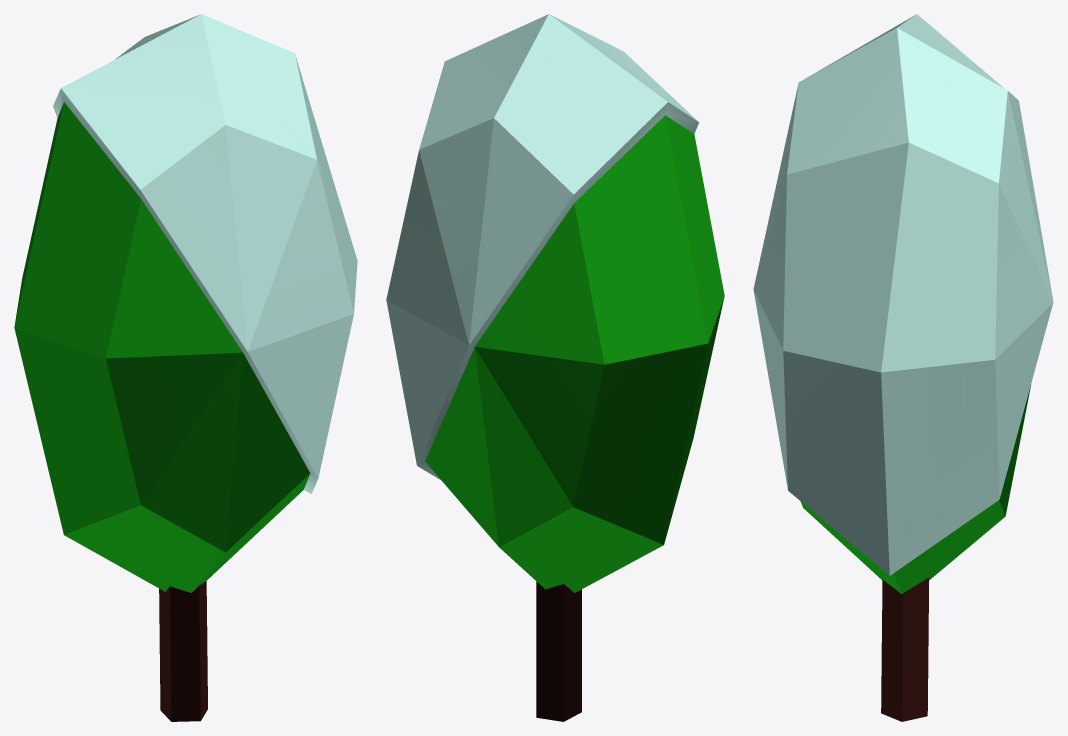
The model's file is Tree3.FBX.
3 views of the same model, side by side, from view 1: azimuth 30°, elevation 25°; view 2: azimuth 150°, elevation 25°; view 3: azimuth 270°, elevation 25° (orthographic).
Visible parts, largest first — view 1: Tree3_b, Tree3_C, Tree3_a; view 2: Tree3_b, Tree3_C, Tree3_a; view 3: Tree3_C, Tree3_a, Tree3_b.
Boxes of the visible parts, left/top/right/bottom form: Tree3_b: left=14, top=102, right=310, bottom=592; Tree3_C: left=53, top=14, right=357, bottom=493; Tree3_a: left=159, top=581, right=207, bottom=721; Tree3_b: left=425, top=115, right=724, bottom=592; Tree3_C: left=386, top=14, right=698, bottom=479; Tree3_a: left=536, top=581, right=581, bottom=721; Tree3_C: left=753, top=14, right=1053, bottom=575; Tree3_a: left=881, top=577, right=929, bottom=721; Tree3_b: left=800, top=384, right=1031, bottom=593.
Bounding box in the file's own units: 5886 × 12212 × 4814.
